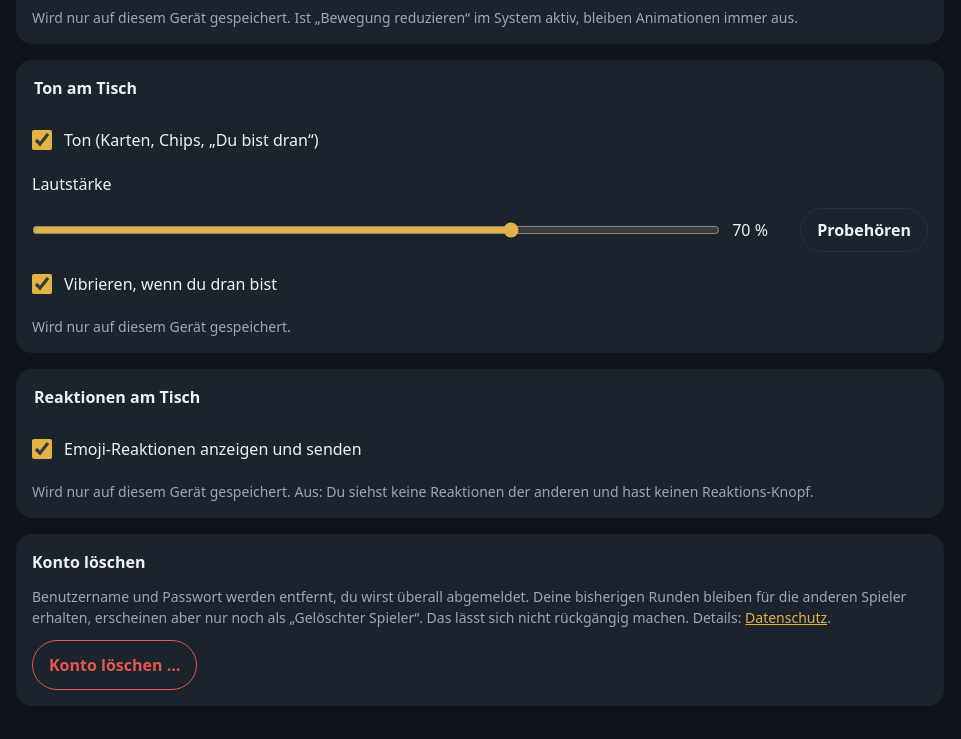
Scenario: Konto löschen › löscht das Konto und zeigt danach den Login mit Bestätigung
This screenshot has width=961, height=739.
(page scrolled)
Click the button "Konto löschen …" at (115, 665), box [32,640,197,690]
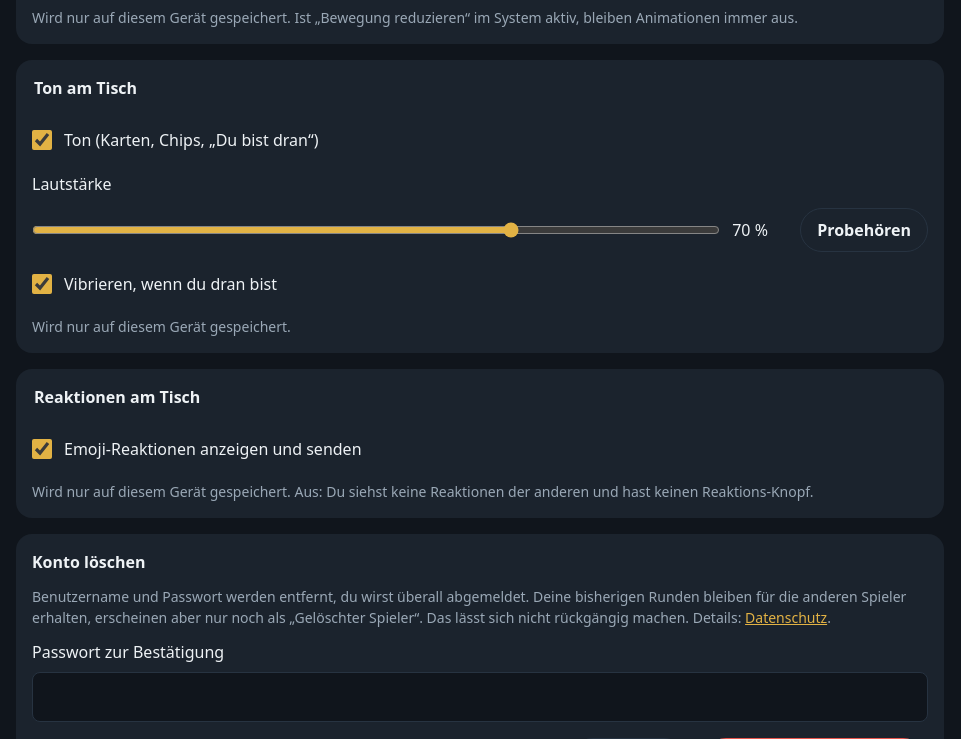
Type "geheim123" into the password field labelled "Passwort zur Bestätigung" at (480, 697), box [32,672,928,722]
(page scrolled)
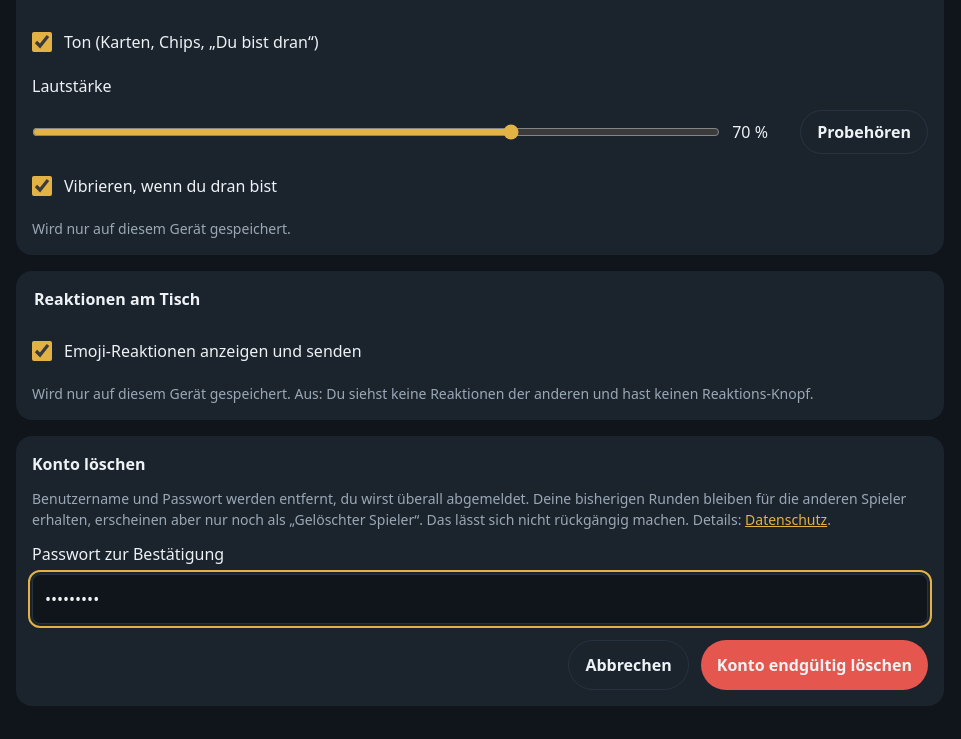
Click the button "Konto endgültig löschen" at (814, 665), box [701,640,928,690]
(page scrolled)
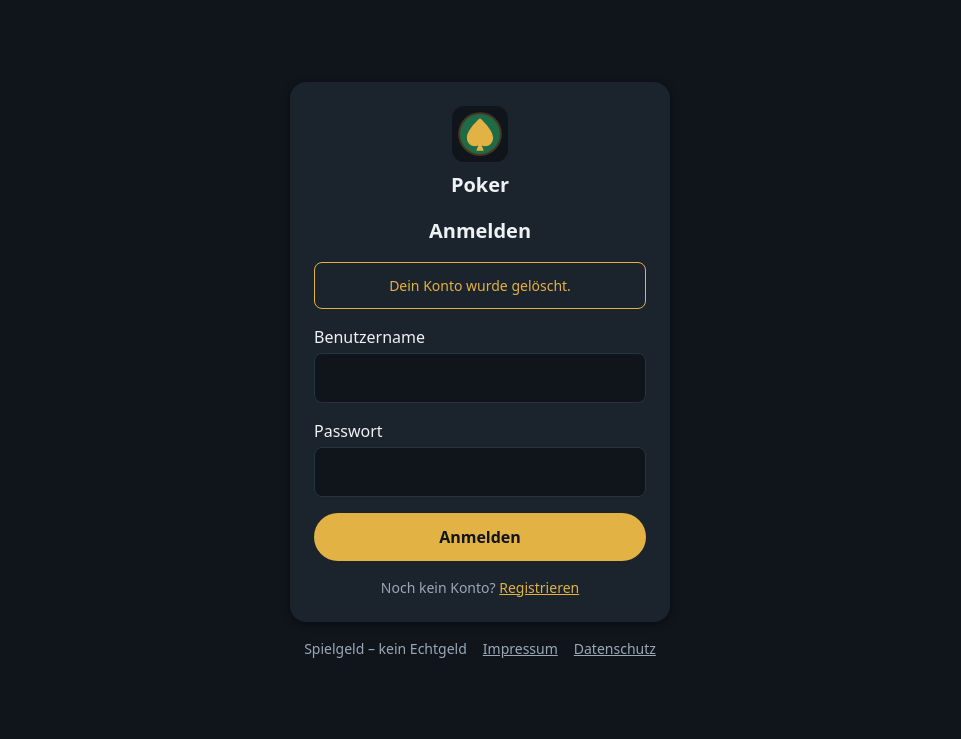
Expected: the heading "Anmelden" is shown, [429,216,531,244]
Expected: the message reads "Dein Konto wurde gelöscht.", [389,276,571,294]
